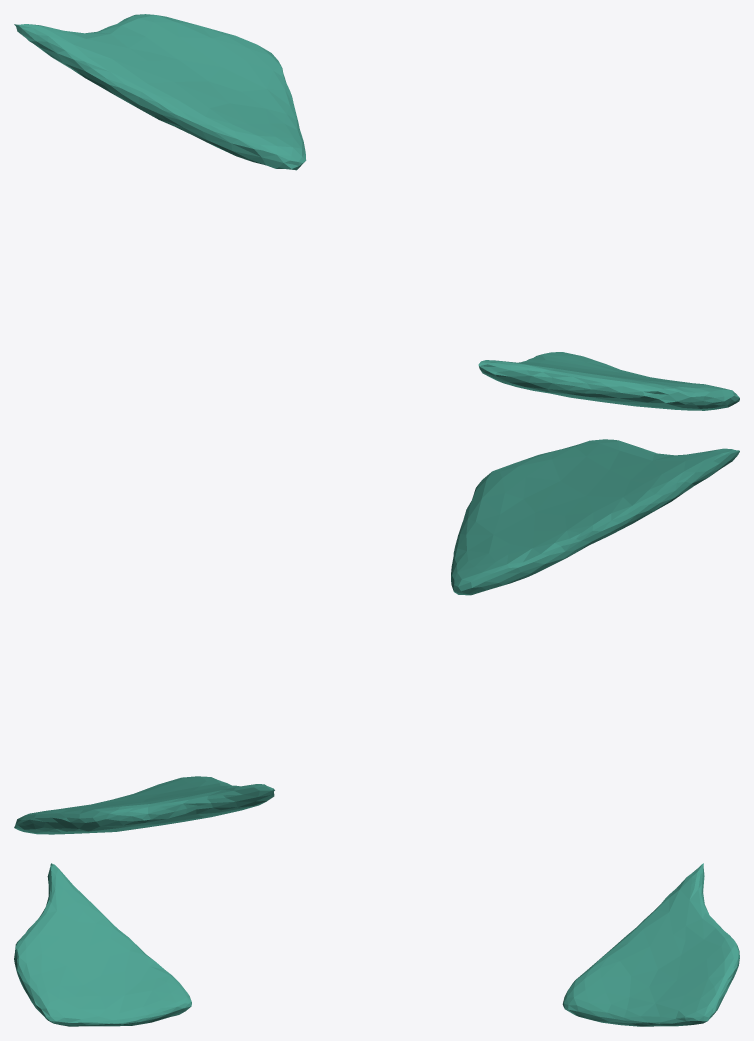
3 views of the same model, one above another, from view 1: azimuth 30°, elevation 25°; view 2: azimuth 150°, elevation 25°; view 3: azimuth 270°, elevation 25° (orthographic). The views are drawn at different scales.
Parts seen in each view (by area): view 1: 1030.obj; view 2: 1030.obj; view 3: 1030.obj.
Boxes of the visible parts, x1=… form: 1030.obj: x1=14, y1=14, x2=739, y2=410; 1030.obj: x1=14, y1=439, x2=739, y2=834; 1030.obj: x1=14, y1=863, x2=739, y2=1026.
Size of the model in its own units: 1387 by 635 by 4761.
